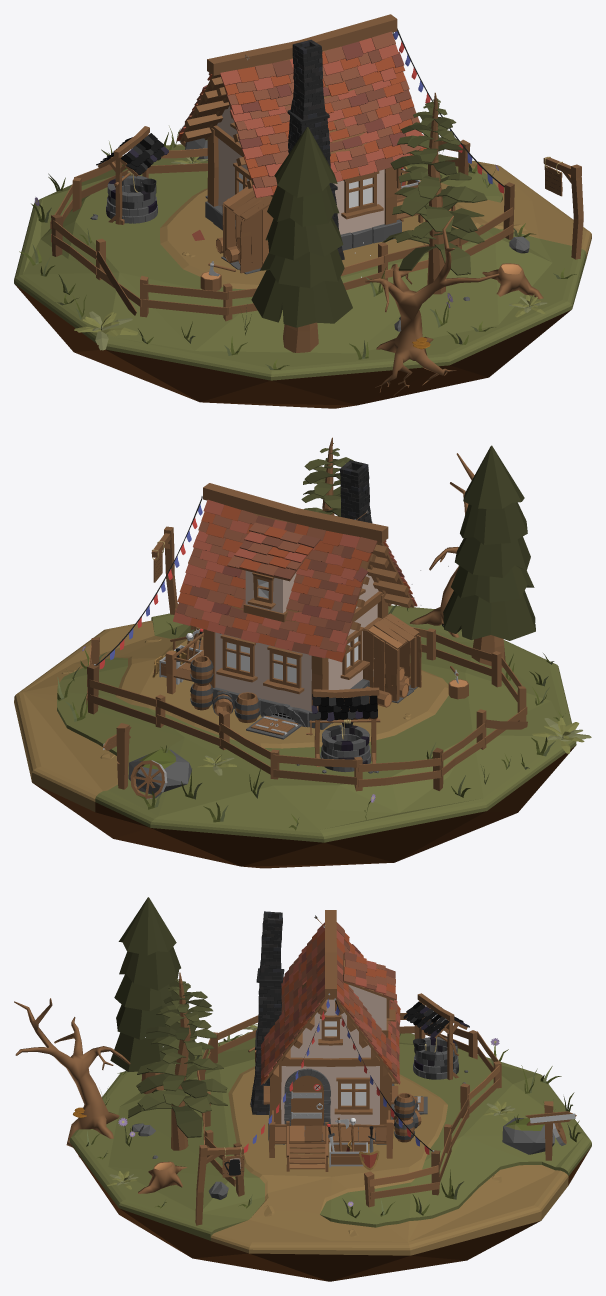
The picture shows the model from 3 angles, top to bottom: view 1: azimuth 30°, elevation 25°; view 2: azimuth 150°, elevation 25°; view 3: azimuth 270°, elevation 25°; orthographic projection. The views are drawn at different scales.
Visible parts, largest first — view 1: Base, Cube.026, Cylinder.016, Roof top beam, Cylinder.020, Cylinder.018, House outline, Cylinder.017, Roof tiles.047, Cylinder.019, Roof tiles.045, Roof tiles.046 (+30 smaller); view 2: Base, House outline, Cylinder.016, Roof top beam, Window frame.001, Cylinder.018, Cylinder.020, Cylinder.019, Cylinder.017, Roof tiles.026, Roof tiles.015, Roof tiles.016 (+41 smaller); view 3: Base, Cube.026, House outline, House outline.003, Cylinder.020, Cylinder.019, Cylinder.007, Cylinder.016, Cylinder.017, Cylinder.018, Icosphere.004, Window frame.004 (+19 smaller).
Boxes of the visible parts, x1,y1,x2,y2 form: Base: [14, 144, 591, 408]; Cube.026: [365, 215, 499, 395]; Cylinder.016: [251, 270, 352, 327]; Roof top beam: [207, 14, 397, 75]; Cylinder.020: [274, 127, 337, 197]; Cylinder.018: [265, 217, 343, 260]; House outline: [218, 135, 384, 234]; Cylinder.017: [260, 249, 344, 288]; Roof tiles.047: [220, 31, 395, 85]; Cylinder.019: [267, 184, 339, 226]; Roof tiles.045: [226, 52, 404, 105]; Roof tiles.046: [224, 44, 398, 95]; Base: [14, 605, 576, 868]; House outline: [215, 601, 377, 711]; Cylinder.016: [443, 590, 535, 640]; Roof top beam: [203, 483, 388, 542]; Window frame.001: [216, 634, 304, 694]; Cylinder.018: [455, 536, 530, 577]; Cylinder.020: [463, 445, 524, 508]; Cylinder.019: [460, 502, 527, 544]; Cylinder.017: [451, 565, 534, 602]; Roof tiles.026: [203, 499, 377, 553]; Roof tiles.015: [176, 602, 347, 652]; Roof tiles.016: [177, 592, 347, 644]; Base: [69, 1033, 591, 1281]; Cube.026: [14, 998, 130, 1157]; House outline: [281, 1057, 379, 1124]; House outline.003: [274, 954, 370, 1057]; Cylinder.020: [118, 897, 176, 955]; Cylinder.019: [119, 947, 180, 990]; Cylinder.007: [291, 1075, 323, 1125]; Cylinder.016: [110, 1032, 195, 1071]; Cylinder.017: [116, 1004, 180, 1039]; Cylinder.018: [114, 974, 179, 1011]; Icosphere.004: [502, 1117, 554, 1154]; Window frame.004: [334, 1077, 372, 1114].
Bounding box in the file's own units: 2888 × 1910 × 3241.
